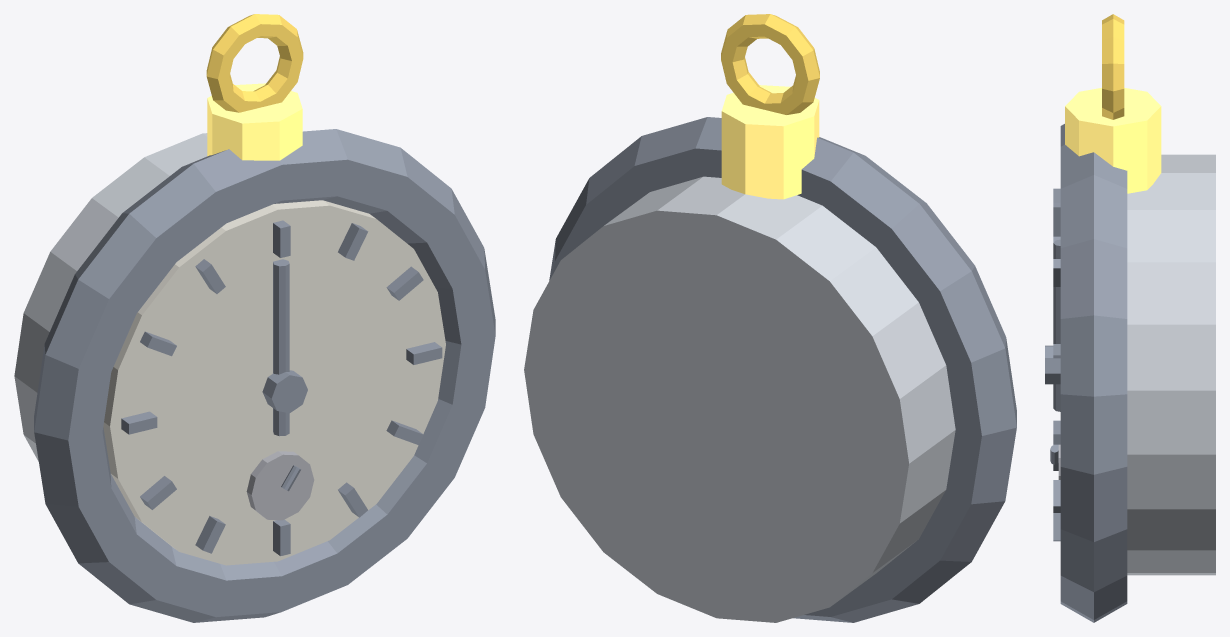
Rendered from clock.glb.
3 renders of one model, left to right at view 1: azimuth 30°, elevation 25°; view 2: azimuth 150°, elevation 25°; view 3: azimuth 270°, elevation 25°, orthographic. The views are drawn at different scales.
Parts seen in each view (by area): view 1: PangClockCase; view 2: PangClockCase; view 3: PangClockCase.
Boxes of the visible parts, left/top/right/bottom form: PangClockCase: left=14, top=14, right=495, bottom=622; PangClockCase: left=524, top=14, right=1016, bottom=622; PangClockCase: left=1045, top=14, right=1215, bottom=622.
Bounding box in the file's own units: 0.81 × 1 × 0.266.
